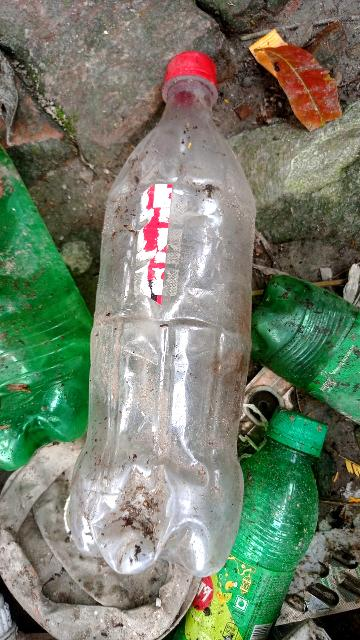bottle: (81, 153, 247, 572)
